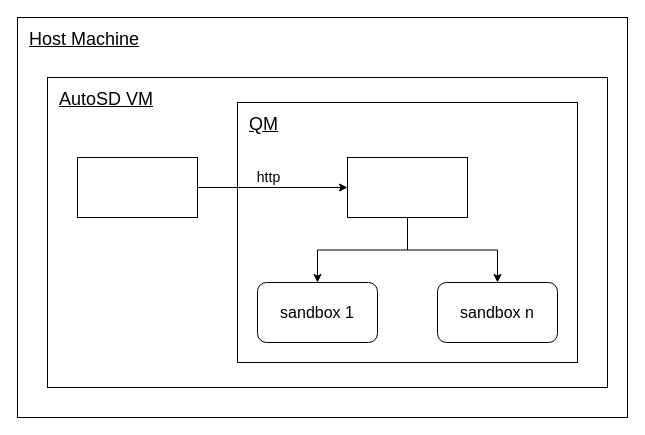
The diagram is 645 pixels wide and 435 high, and some of its shapes have lost their labels. The centre of each missing label's shape, as x and y in pixels:
"openshell CLI" belongs at (137,187).
"openshell-gateway" belongs at (407,187).
